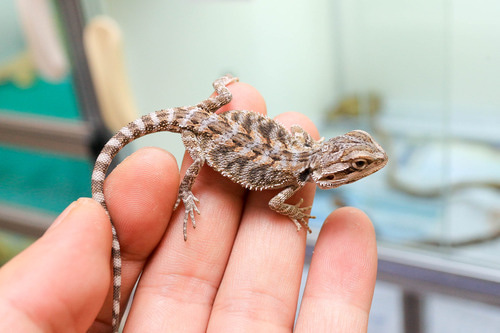bearded: (90, 75, 385, 333)
